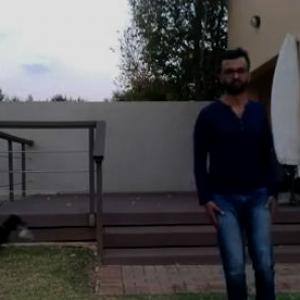follow: (182, 41, 282, 299)
